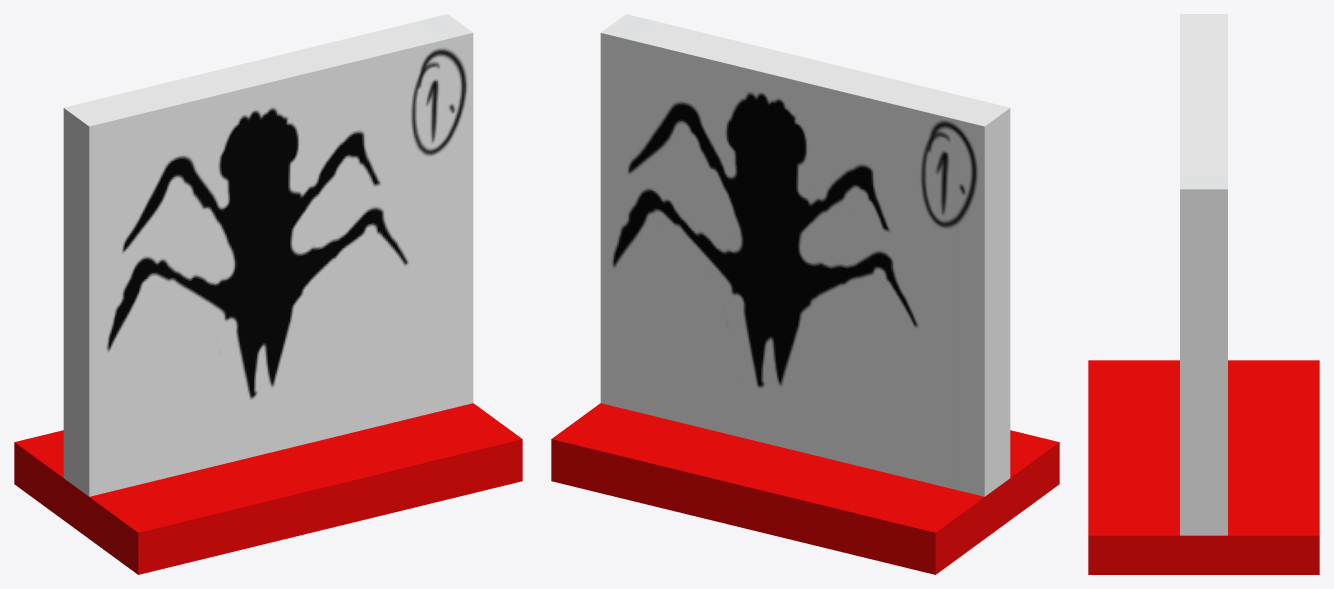
The model's file is Baddie_Placement_1.FBX.
The picture shows the model from 3 angles, left to right: view 1: azimuth 30°, elevation 25°; view 2: azimuth 150°, elevation 25°; view 3: azimuth 270°, elevation 25°; orthographic projection. The views are drawn at different scales.
Visible parts, largest first — view 1: Alien_01; view 2: Alien_01; view 3: Alien_01.
Part boxes in pixels (x1,y1,x2,y2): Alien_01: [14, 14, 522, 574]; Alien_01: [551, 14, 1059, 574]; Alien_01: [1088, 14, 1319, 574].
Bounding box in the file's own units: 0.9486 × 0.9731 × 0.5296.
1 material, 1 textured.
